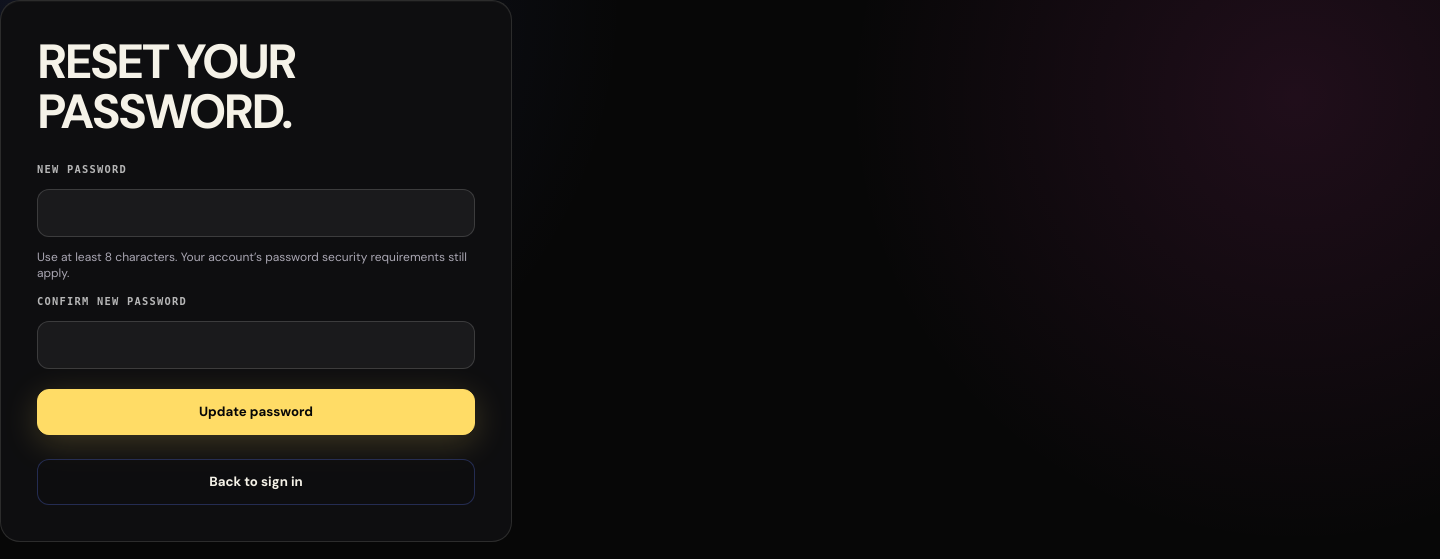
Test: authenticated password recovery › requires the same authenticated user before changing the password
Type "fixture-password-2" into the password field labelled "New password".
click(256, 213); type("fixture-password-2")  # box [37,189,475,237]
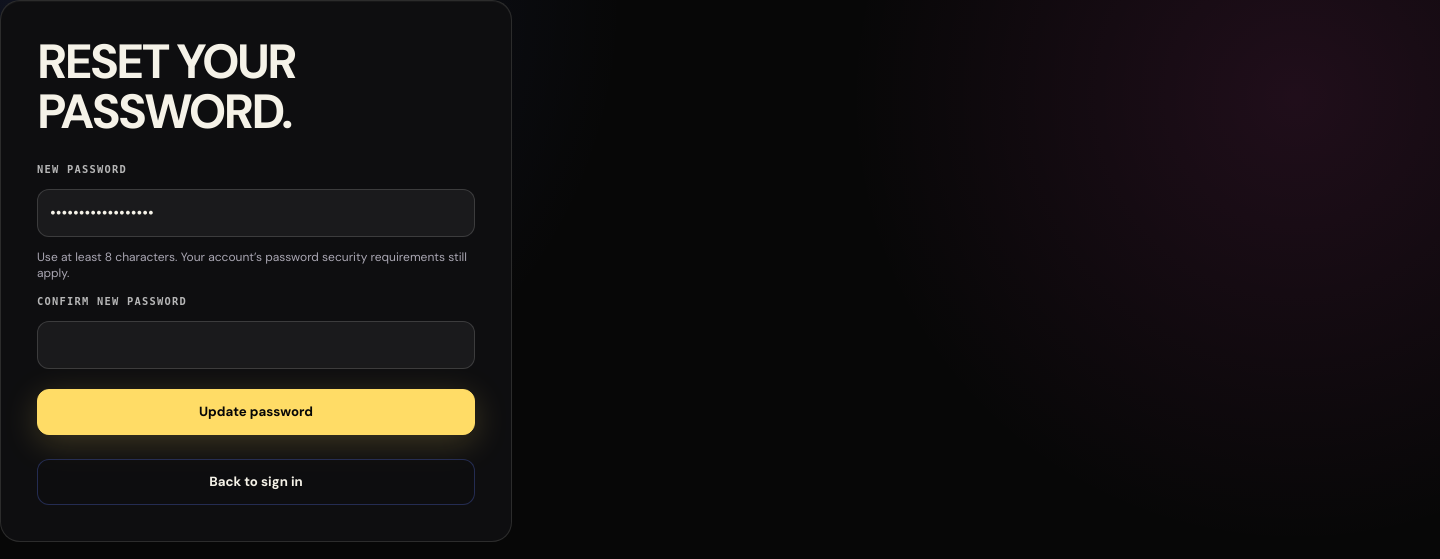
Type "fixture-password-2" into the password field labelled "Confirm new password".
click(256, 345); type("fixture-password-2")  # box [37,321,475,369]
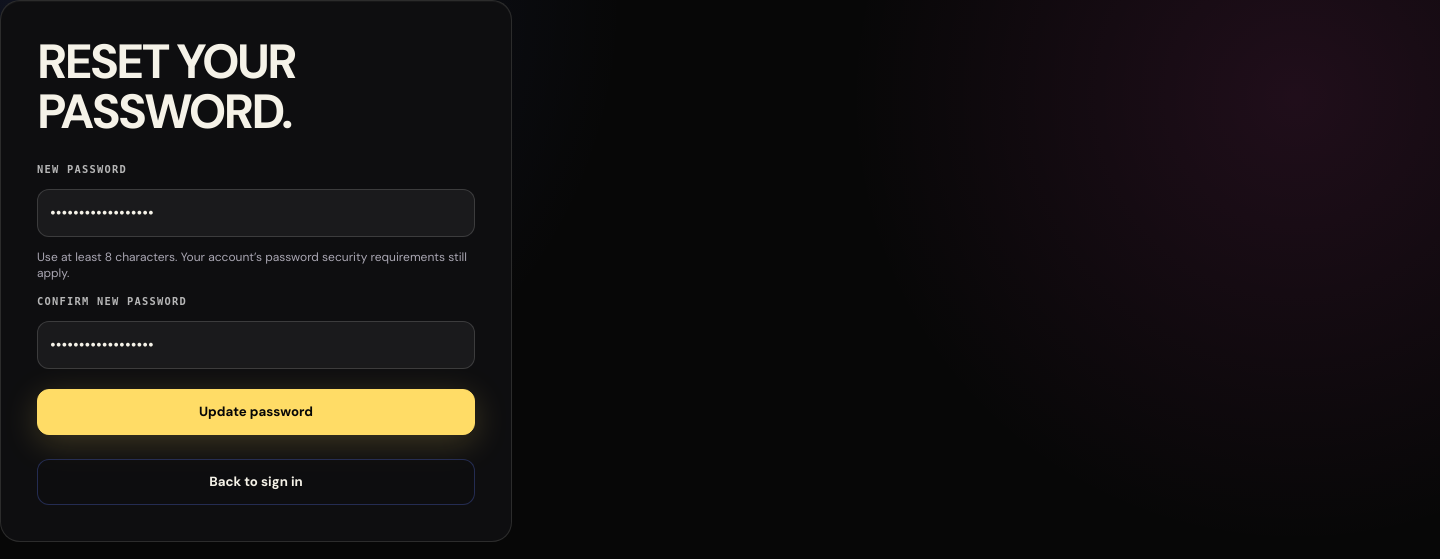
Click the button "Update password".
click(256, 412)  # box [37,389,475,435]
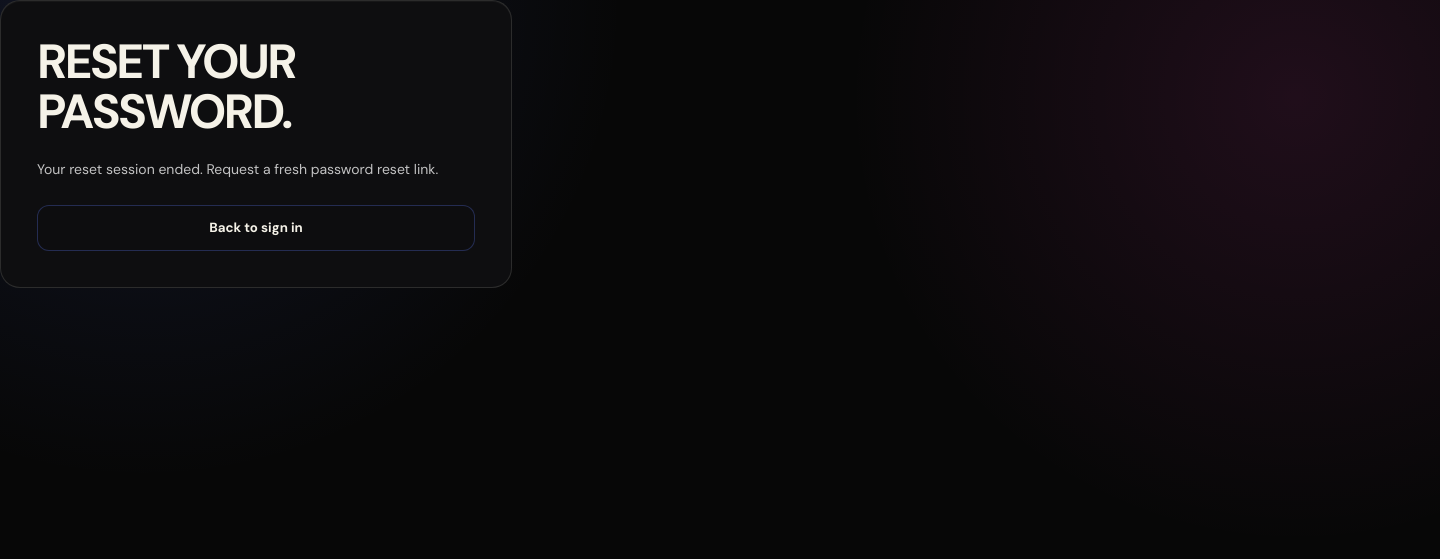
Check: the message shows "reset session ended", box [37,160,438,178]
